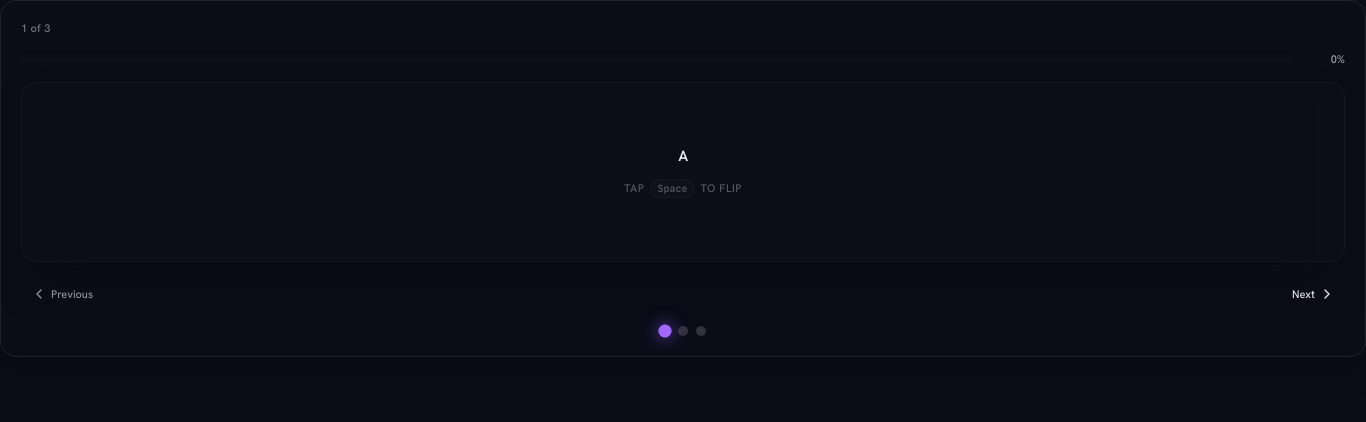
FlashDeckInteractive — RTL touch swipe semantics › should advance on rightward swipe in LTR mode
The image size is (1366, 422).
Press Space
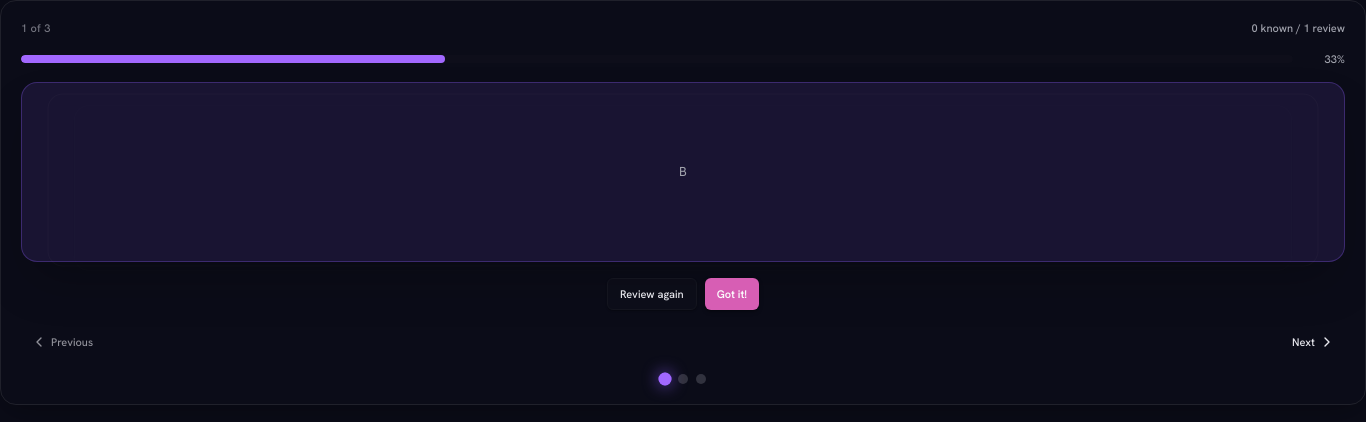
Press the mouse on the button "A Tap Space to flip B" at (683, 172), box [21,82,1345,262]
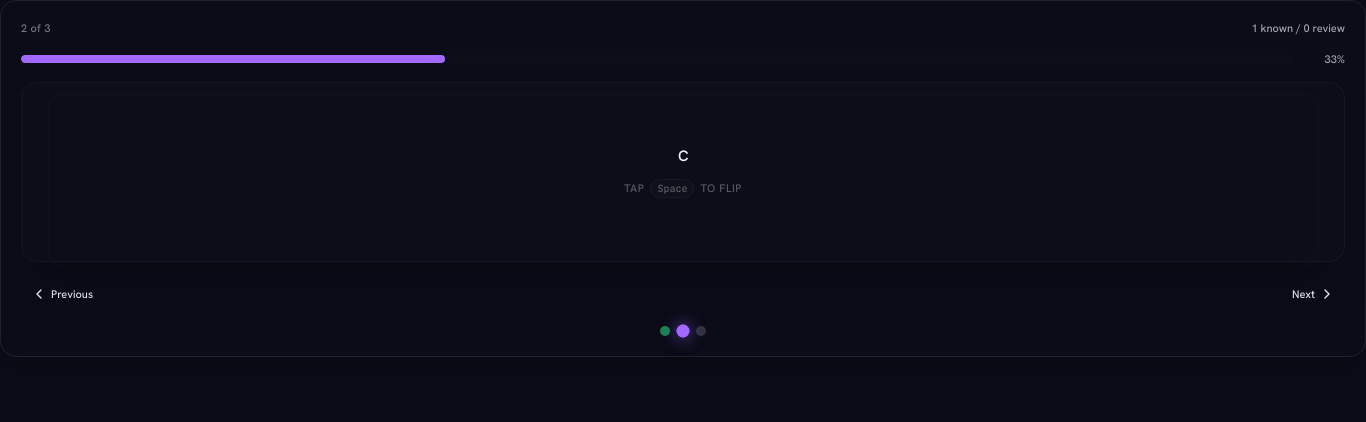
Result: the text "2 of 3" is shown at [21,21,51,36]
